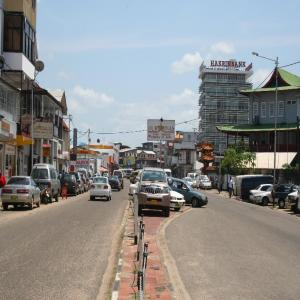Vehicle-registration-plate: (11, 198, 18, 202), (152, 201, 158, 205), (180, 203, 183, 207), (99, 187, 101, 189)
